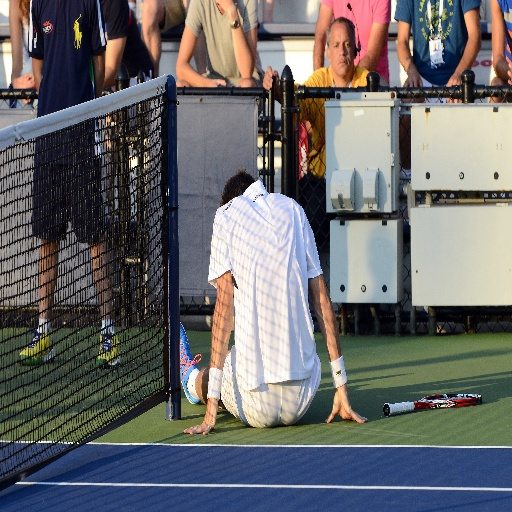hand: (324, 390, 368, 426), (182, 394, 218, 435), (444, 71, 462, 103), (262, 65, 279, 92), (402, 72, 424, 88), (215, 0, 236, 13), (506, 61, 511, 87)
